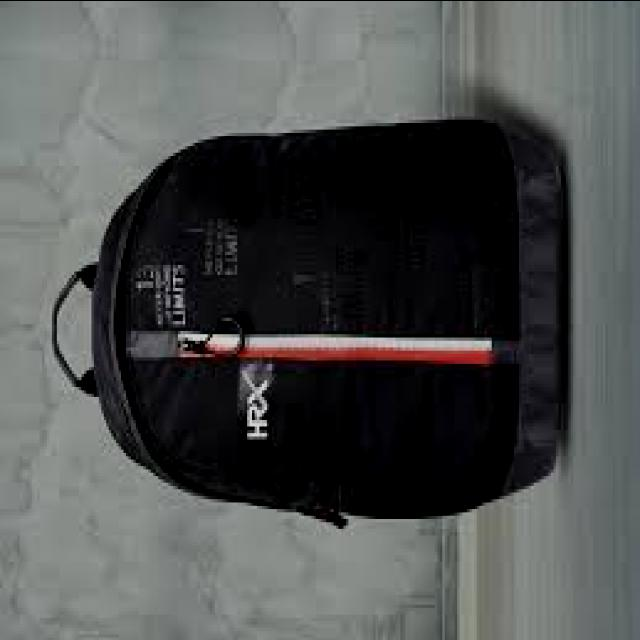backpack: (51, 117, 567, 529)
